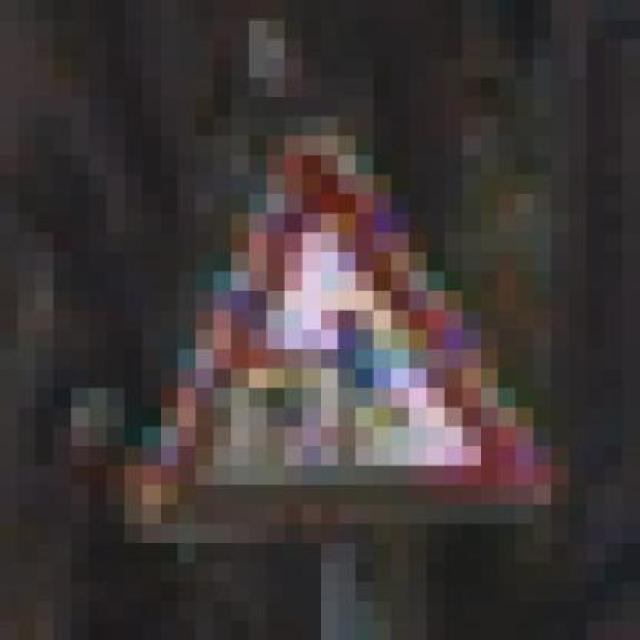Beware of children: (106, 97, 569, 563)
